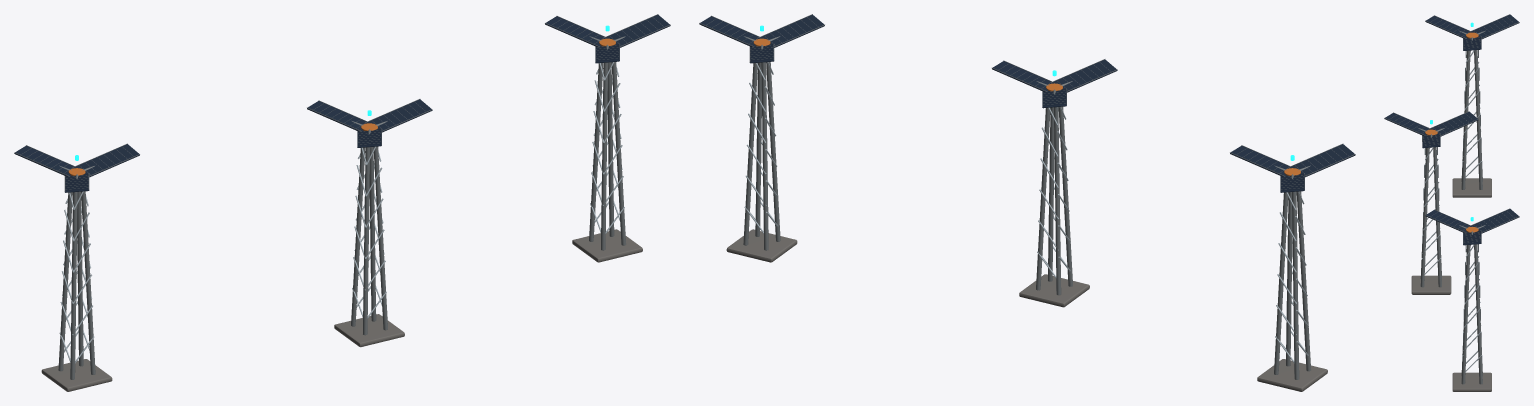
Rendered from polar-power-towers.glb.
3 views of the same model, side by side, from view 1: azimuth 30°, elevation 25°; view 2: azimuth 150°, elevation 25°; view 3: azimuth 270°, elevation 25° (orthographic). The views are drawn at different scales.
Parts seen in each view (by area): view 1: RenderBatch_PolarPower_Tower_01_POLAR_POWER_Frame, RenderBatch_PolarPower_Tower_03_POLAR_POWER_Frame, RenderBatch_PolarPower_Tower_02_POLAR_POWER_Frame, PolarPower_Foundation_01, PolarPower_Foundation_02, PolarPower_Foundation_03, RenderBatch_PolarPower_Tower_03_POLAR_POWER_Body, RenderBatch_PolarPower_Tower_02_POLAR_POWER_Body, RenderBatch_PolarPower_Tower_01_POLAR_POWER_Body, PolarPower_Petal_01_01, PolarPower_Petal_02_01, PolarPower_Petal_03_01 (+3 smaller); view 2: RenderBatch_PolarPower_Tower_03_POLAR_POWER_Frame, RenderBatch_PolarPower_Tower_01_POLAR_POWER_Frame, RenderBatch_PolarPower_Tower_02_POLAR_POWER_Frame, PolarPower_Foundation_03, PolarPower_Foundation_01, PolarPower_Foundation_02, PolarPower_Petal_01_03, PolarPower_Petal_03_03, PolarPower_Petal_02_03, PolarPower_Petal_03_01, PolarPower_Petal_01_01, PolarPower_Petal_02_01 (+3 smaller); view 3: RenderBatch_PolarPower_Tower_03_POLAR_POWER_Frame, RenderBatch_PolarPower_Tower_02_POLAR_POWER_Frame, RenderBatch_PolarPower_Tower_01_POLAR_POWER_Frame, PolarPower_Foundation_02, PolarPower_Foundation_01, PolarPower_Foundation_03, PolarPower_Petal_01_02, PolarPower_Petal_02_02, PolarPower_Petal_03_02, RenderBatch_PolarPower_Tower_03_POLAR_POWER_Body, RenderBatch_PolarPower_Tower_01_POLAR_POWER_Body, RenderBatch_PolarPower_Tower_02_POLAR_POWER_Body (+6 smaller).
Part boxes in pixels (x1,y1,x2,y2): RenderBatch_PolarPower_Tower_01_POLAR_POWER_Frame: (58,191,95,379); RenderBatch_PolarPower_Tower_03_POLAR_POWER_Frame: (589,62,625,250); RenderBatch_PolarPower_Tower_02_POLAR_POWER_Frame: (351,146,387,335); PolarPower_Foundation_01: (41,359,112,391); PolarPower_Foundation_02: (334,314,404,347); PolarPower_Foundation_03: (572,229,642,262); RenderBatch_PolarPower_Tower_03_POLAR_POWER_Body: (590,62,624,233); RenderBatch_PolarPower_Tower_02_POLAR_POWER_Body: (352,146,386,318); RenderBatch_PolarPower_Tower_01_POLAR_POWER_Body: (59,191,94,363); PolarPower_Petal_01_01: (73,144,139,177); PolarPower_Petal_02_01: (366,99,432,132); PolarPower_Petal_03_01: (604,14,670,47); RenderBatch_PolarPower_Tower_03_POLAR_POWER_Frame: (743,62,780,250); RenderBatch_PolarPower_Tower_01_POLAR_POWER_Frame: (1274,191,1310,379); RenderBatch_PolarPower_Tower_02_POLAR_POWER_Frame: (1036,106,1072,295); PolarPower_Foundation_03: (726,229,797,262); PolarPower_Foundation_01: (1257,359,1327,391); PolarPower_Foundation_02: (1019,274,1089,307); PolarPower_Petal_01_03: (1289,144,1355,177); PolarPower_Petal_03_03: (758,14,824,47); PolarPower_Petal_02_03: (1050,59,1117,92); PolarPower_Petal_03_01: (699,16,758,46); PolarPower_Petal_01_01: (1230,145,1289,176); PolarPower_Petal_02_01: (992,61,1051,91); RenderBatch_PolarPower_Tower_03_POLAR_POWER_Frame: (1461,244,1482,384); RenderBatch_PolarPower_Tower_02_POLAR_POWER_Frame: (1420,147,1441,287); RenderBatch_PolarPower_Tower_01_POLAR_POWER_Frame: (1461,50,1482,189); PolarPower_Foundation_02: (1411,275,1451,294); PolarPower_Foundation_01: (1452,178,1491,197); PolarPower_Foundation_03: (1452,372,1491,391); PolarPower_Petal_01_02: (1469,14,1519,39); PolarPower_Petal_02_02: (1428,111,1478,136); PolarPower_Petal_03_02: (1469,209,1519,233); RenderBatch_PolarPower_Tower_03_POLAR_POWER_Body: (1462,244,1482,372); RenderBatch_PolarPower_Tower_01_POLAR_POWER_Body: (1462,50,1482,177); RenderBatch_PolarPower_Tower_02_POLAR_POWER_Body: (1421,147,1441,275).
Bounding box in the file's own units: 42.44 × 14.4 × 10.61.
